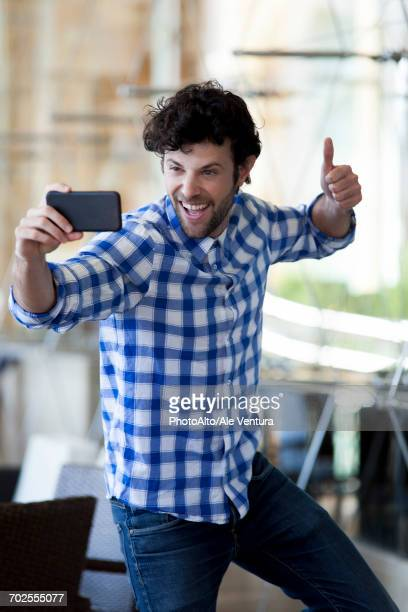thumbsUp: (310, 134, 366, 217)
